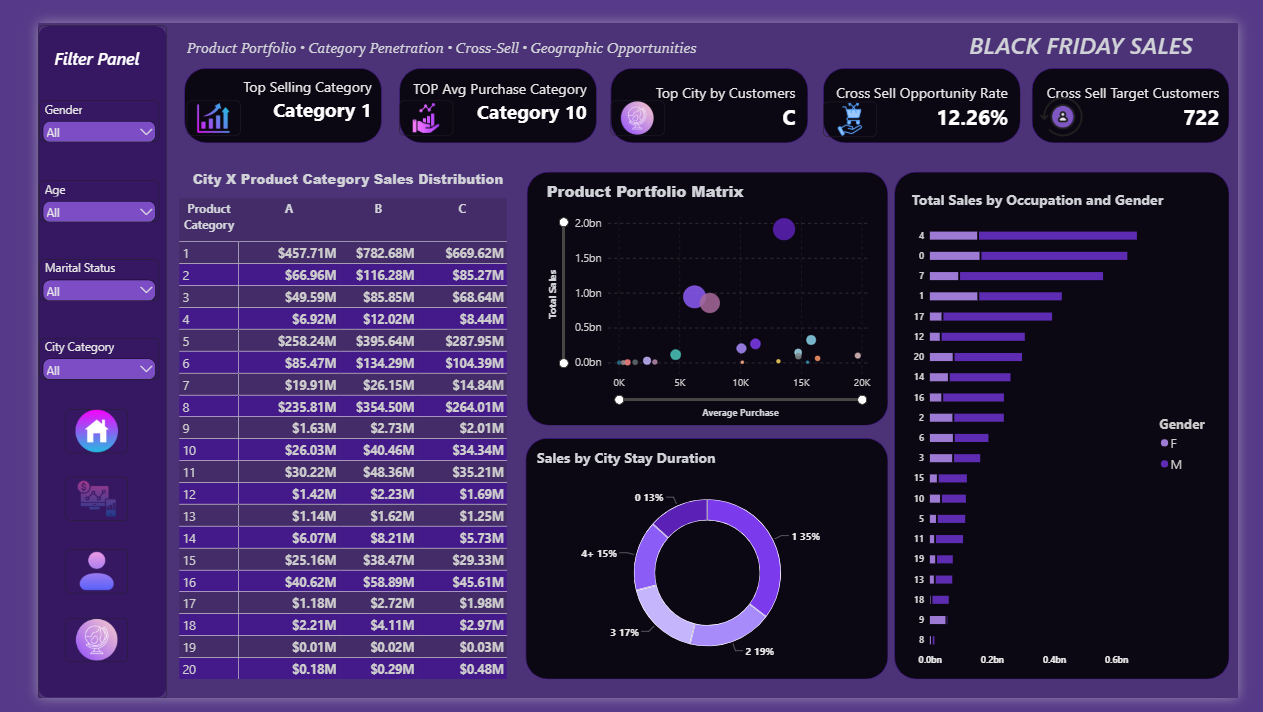

Layout of this report page (visuals, bound fields, positions):
{"tool":"powerbi","page":{"name":"Product & Geographic Analysis","canvas":[1920,1080],"ordinal":3},"visuals":[{"type":"shape","box":[234,72,316,120],"z":0},{"type":"shape","box":[578,72,316,120],"z":1000},{"type":"shape","box":[916,72,316,120],"z":2000},{"type":"shape","box":[1256,72,316,120],"z":3000},{"type":"shape","box":[1590,72,316,120],"z":4000},{"type":"shape","box":[1370,238,536,812],"z":5000},{"type":"shape","box":[782,238,578,406],"z":6000},{"type":"shape","box":[780,664,580,386],"z":7000},{"type":"shape","box":[0,3.6,206.3,1076.7],"z":8000},{"type":"cardVisual","fields":{"Data":["Measures(Geo).Top_Product_Category"]},"box":[238,66,312,115],"z":9000},{"type":"cardVisual","fields":{"Data":["Measures(Geo).Cross Sell Opportunity Rate"]},"box":[1255,76,312,115],"z":10000},{"type":"cardVisual","fields":{"Data":["Measures(Geo).Top City by Customers"]},"box":[916,76,312,115],"z":11000},{"type":"cardVisual","fields":{"Data":["Measures(Geo).Highest Avg Purchase Category"]},"box":[582,68,312,115],"z":12000},{"type":"scatterChart","title":"Product Portfolio Matrix","fields":{"X":["_Measures.Average Purchase"],"Y":["_Measures.Total Sales"],"Series":["black_friday_db black_friday_data.Product_Category_1"],"Size":["_Measures.Total Transactions"]},"box":[798,238,562,406],"z":13000},{"type":"textbox","box":[25.3,38,181,44],"z":14000},{"type":"slicer","fields":{"Values":["black_friday_db black_friday_data.Gender"]},"box":[2.3,124.9,192,66],"z":15000},{"type":"slicer","fields":{"Values":["black_friday_db black_friday_data.Age"]},"box":[2.3,251.5,192,66],"z":16000},{"type":"slicer","fields":{"Values":["black_friday_db black_friday_data.Marital_Status"]},"box":[2.3,378.1,192,66],"z":17000},{"type":"slicer","fields":{"Values":["black_friday_db black_friday_data.City_Category"]},"box":[2.3,504.8,192,66],"z":18000},{"type":"textbox","box":[1489.4,9,430.7,57.9],"z":19000},{"type":"textbox","box":[238.9,23.5,828.8,43.4],"z":20000},{"type":"pivotTable","title":"City X Product Category Sales Distribution","fields":{"Rows":["black_friday_db black_friday_data.Product_Category_1"],"Values":["_Measures.Total Sales"],"Columns":["black_friday_db black_friday_data.City_Category"]},"box":[210,220,572,846],"z":21000},{"type":"cardVisual","fields":{"Data":["Measures(Geo).Cross Sell Opportunity Customers"]},"box":[1594,76,312,115],"z":22000},{"type":"donutChart","title":"Sales by City Stay Duration","fields":{"Category":["black_friday_db black_friday_data.Stay_In_Current_City_Years"],"Y":["_Measures.Total Sales"]},"box":[782,664,578,386],"z":23000},{"type":"barChart","fields":{"Y":["_Measures.Total Sales"],"Category":["black_friday_db black_friday_data.Occupation"],"Series":["black_friday_db black_friday_data.Gender"]},"box":[1382,252,524,798],"z":24000},{"type":"image","box":[44,842,100,70],"z":25000},{"type":"image","box":[44,952,100,70],"z":26000},{"type":"image","box":[44,726,100,70],"z":27000},{"type":"actionButton","box":[38,618,121.2,67],"z":28000},{"type":"image","box":[44,618,100,70],"z":29000},{"type":"image","box":[238,124,86,56],"z":30000},{"type":"image","box":[578,124,86,56],"z":31000},{"type":"image","box":[916,124,86,56],"z":32000},{"type":"image","box":[1256,126,86,56],"z":33000},{"type":"image","box":[1580,116,114,68],"z":34000}]}

Visuals, with their boxes in screenshot pixels (x1, y1, x2, y2), scaled from the page's 1920x1080 canvas onto the 1263x712 screenshot:
shape: <bbox>154, 47, 362, 127</bbox>
shape: <bbox>380, 47, 588, 127</bbox>
shape: <bbox>603, 47, 810, 127</bbox>
shape: <bbox>826, 47, 1034, 127</bbox>
shape: <bbox>1046, 47, 1254, 127</bbox>
shape: <bbox>901, 157, 1254, 692</bbox>
shape: <bbox>514, 157, 895, 425</bbox>
shape: <bbox>513, 438, 895, 692</bbox>
shape: <bbox>0, 2, 136, 711</bbox>
cardVisual - Measures(Geo).Top_Product_Category: <bbox>157, 44, 362, 119</bbox>
cardVisual - Measures(Geo).Cross Sell Opportunity Rate: <bbox>826, 50, 1031, 126</bbox>
cardVisual - Measures(Geo).Top City by Customers: <bbox>603, 50, 808, 126</bbox>
cardVisual - Measures(Geo).Highest Avg Purchase Category: <bbox>383, 45, 588, 121</bbox>
"Product Portfolio Matrix" scatterChart: <bbox>525, 157, 895, 425</bbox>
textbox: <bbox>17, 25, 136, 54</bbox>
slicer - black_friday_db black_friday_data.Gender: <bbox>2, 82, 128, 126</bbox>
slicer - black_friday_db black_friday_data.Age: <bbox>2, 166, 128, 209</bbox>
slicer - black_friday_db black_friday_data.Marital_Status: <bbox>2, 249, 128, 293</bbox>
slicer - black_friday_db black_friday_data.City_Category: <bbox>2, 333, 128, 376</bbox>
textbox: <bbox>980, 6, 1262, 44</bbox>
textbox: <bbox>157, 15, 702, 44</bbox>
"City X Product Category Sales Distribution" pivotTable: <bbox>138, 145, 514, 703</bbox>
cardVisual - Measures(Geo).Cross Sell Opportunity Customers: <bbox>1049, 50, 1254, 126</bbox>
"Sales by City Stay Duration" donutChart: <bbox>514, 438, 895, 692</bbox>
barChart - _Measures.Total Sales x black_friday_db black_friday_data.Occupation: <bbox>909, 166, 1254, 692</bbox>
image: <bbox>29, 555, 95, 601</bbox>
image: <bbox>29, 628, 95, 674</bbox>
image: <bbox>29, 479, 95, 525</bbox>
actionButton: <bbox>25, 407, 105, 452</bbox>
image: <bbox>29, 407, 95, 454</bbox>
image: <bbox>157, 82, 213, 119</bbox>
image: <bbox>380, 82, 437, 119</bbox>
image: <bbox>603, 82, 659, 119</bbox>
image: <bbox>826, 83, 883, 120</bbox>
image: <bbox>1039, 76, 1114, 121</bbox>
